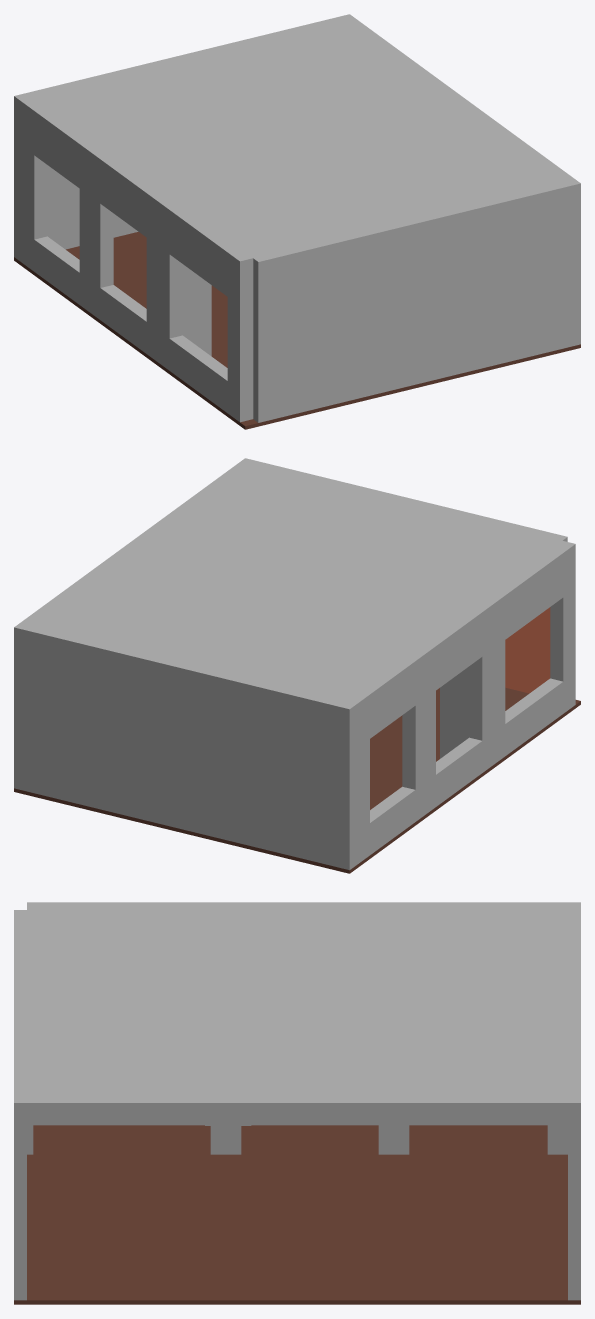
Rendered from MAP.glb.
3 renders of one model, top to bottom at view 1: azimuth 30°, elevation 25°; view 2: azimuth 150°, elevation 25°; view 3: azimuth 270°, elevation 25°, orthographic. The views are drawn at different scales.
Visible parts, largest first — view 1: 立方體.035, 平面.046, 平面.006, 平面.003, 平面.005; view 2: 立方體.035, 平面.005, 平面.006, 平面.003, 平面.046; view 3: 立方體.035, 平面.003, 平面.046, 平面.006, 平面.005.
Part boxes in pixels (x1,y1,x2,y2): 立方體.035: [27, 14, 575, 257]; 平面.046: [253, 179, 580, 422]; 平面.006: [14, 93, 253, 422]; 平面.003: [14, 232, 580, 429]; 平面.005: [47, 165, 138, 249]; 立方體.035: [14, 462, 561, 723]; 平面.005: [14, 645, 336, 866]; 平面.006: [336, 540, 575, 870]; 平面.003: [14, 687, 580, 873]; 平面.046: [240, 458, 567, 693]; 立方體.035: [27, 910, 580, 1154]; 平面.003: [14, 1125, 580, 1304]; 平面.046: [14, 910, 33, 1300]; 平面.006: [27, 902, 580, 1125]; 平面.005: [547, 1125, 580, 1300].
Bounding box in the file's own units: 603 × 282 × 719.
